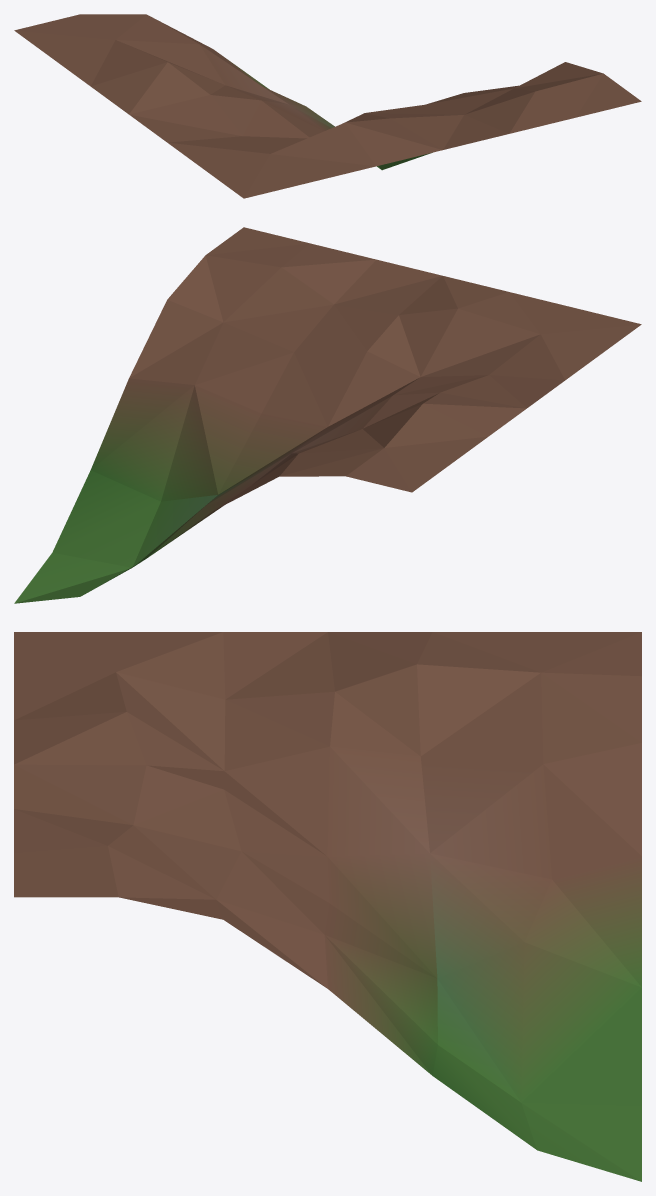
File: SlopeIB90.fbx
The picture shows the model from 3 angles, top to bottom: view 1: azimuth 30°, elevation 25°; view 2: azimuth 150°, elevation 25°; view 3: azimuth 270°, elevation 25°; orthographic projection. The views are drawn at different scales.
Visible parts, largest first — view 1: Cliff.009; view 2: Cliff.009; view 3: Cliff.009.
Boxes of the visible parts, x1,y1,x2,y2 form: Cliff.009: [14, 14, 641, 198]; Cliff.009: [14, 227, 641, 603]; Cliff.009: [14, 632, 641, 1181].
Bounding box in the file's own units: 200 × 105 × 200.
